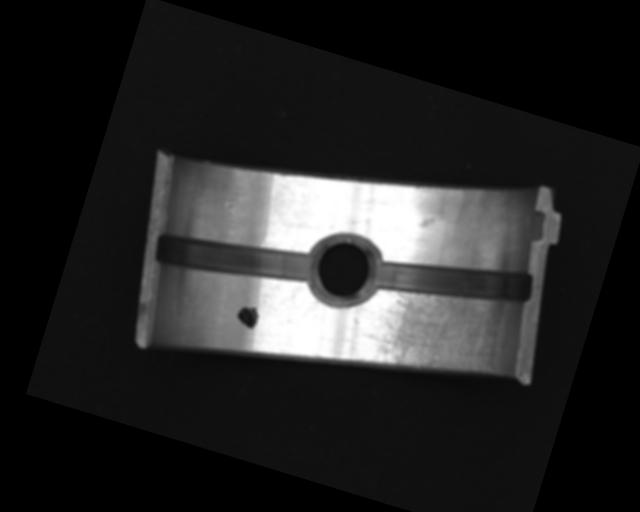blot: (234, 302, 261, 331)
bruise: (417, 212, 437, 232)
gap: (364, 226, 538, 331), (149, 209, 316, 306)
hole: (303, 227, 384, 312)
nick: (259, 192, 295, 253), (296, 294, 319, 328)
scratch: (350, 265, 526, 410)
